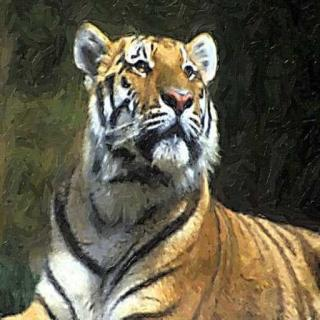Tiger: (6, 11, 320, 320)
